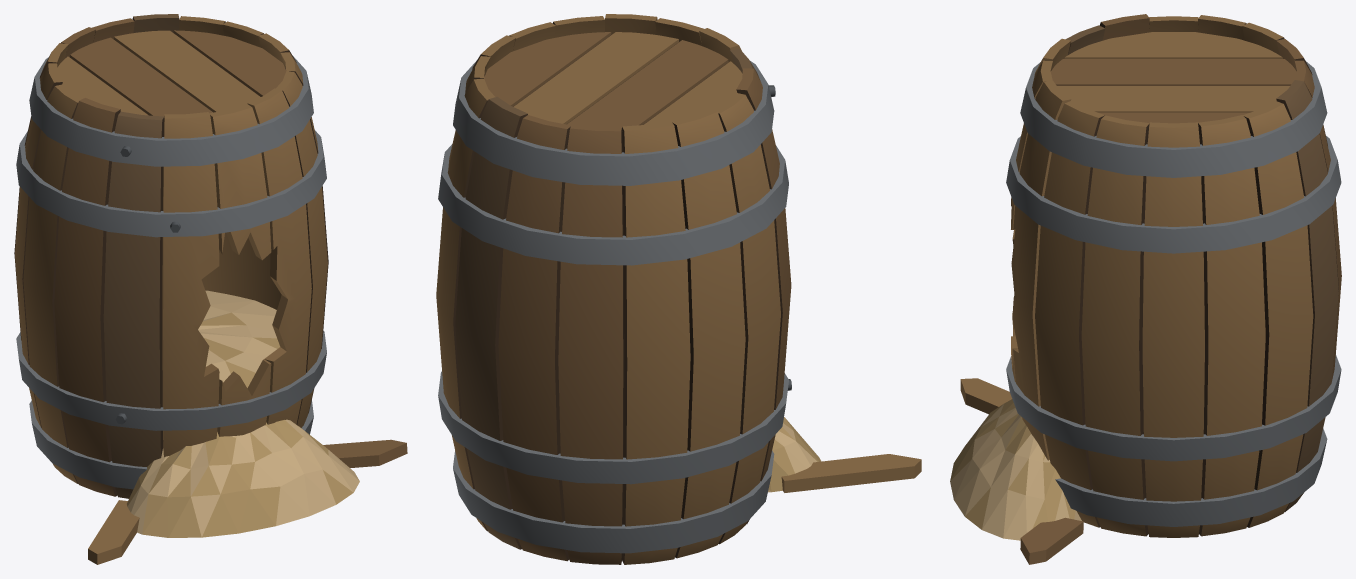
The model's file is SM_LPD_Crate_BarrelCracked_01.fbx.
The picture shows the model from 3 angles, left to right: view 1: azimuth 30°, elevation 25°; view 2: azimuth 150°, elevation 25°; view 3: azimuth 270°, elevation 25°; orthographic projection. The views are drawn at different scales.
Visible parts, largest first — view 1: SM_LPD_Crate_BarrelCracked_01; view 2: SM_LPD_Crate_BarrelCracked_01; view 3: SM_LPD_Crate_BarrelCracked_01.
Boxes of the visible parts, x1,y1,x2,y2 form: SM_LPD_Crate_BarrelCracked_01: [14, 14, 407, 564]; SM_LPD_Crate_BarrelCracked_01: [436, 14, 921, 564]; SM_LPD_Crate_BarrelCracked_01: [950, 14, 1341, 564].
Size of the model in its own units: 0.7981 by 0.8529 by 0.7345.
